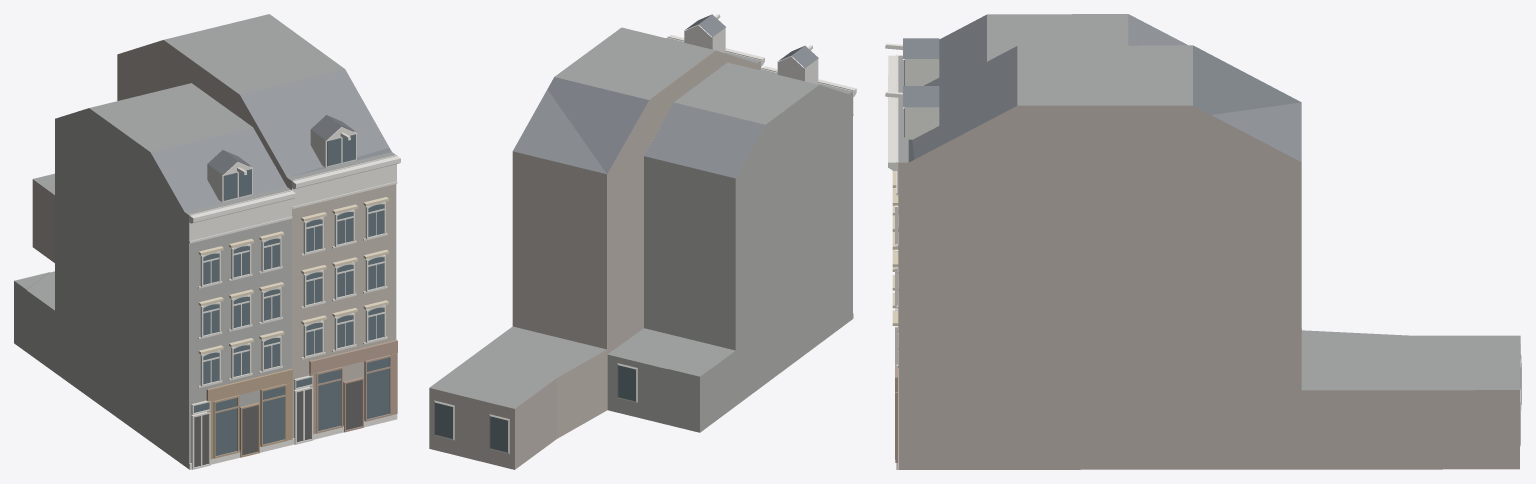
The model's file is chunk-face-bol-40-54-r1.glb.
3 views of the same model, side by side, from view 1: azimuth 30°, elevation 25°; view 2: azimuth 150°, elevation 25°; view 3: azimuth 270°, elevation 25° (orthographic). The views are drawn at different scales.
Parts seen in each view (by area): view 1: face-bol-40-54-r1; view 2: face-bol-40-54-r1; view 3: face-bol-40-54-r1.
Boxes of the visible parts, bbox=[...] form: face-bol-40-54-r1: bbox=[14, 14, 400, 469]; face-bol-40-54-r1: bbox=[429, 14, 856, 469]; face-bol-40-54-r1: bbox=[885, 14, 1521, 469].
Bounding box in the file's own units: 11.04 × 15.73 × 24.92.
